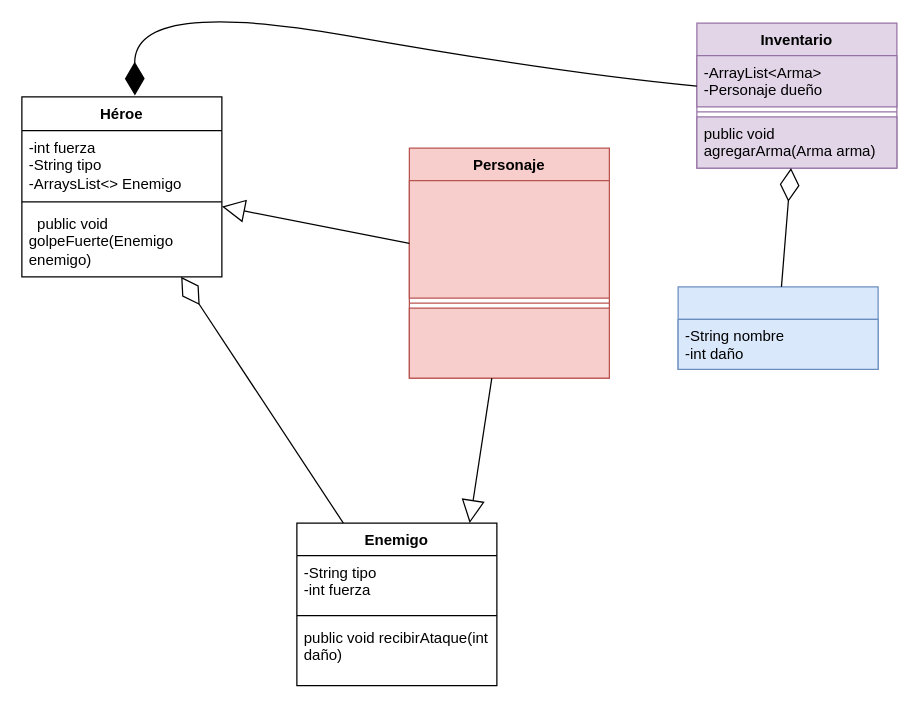
The diagram is 919 pixels wide and 711 high, and some of its shapes have lost their labels. Each missing label, with the box of its shape:
-String nombre -String historia -int nivel -int vida -String tipo: (408, 179, 609, 298)
Armas: (677, 286, 878, 369)
public void habilidades() public void atacar () public void subirNivel(): (408, 307, 609, 378)
